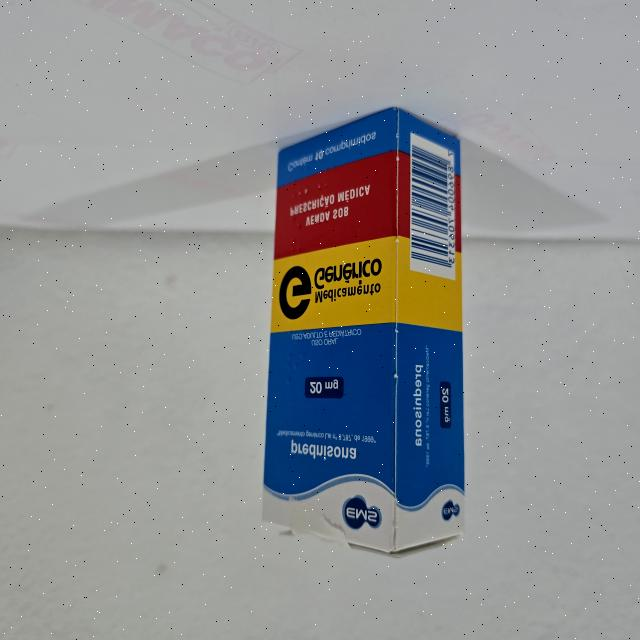prednisona: (254, 101, 469, 564)
